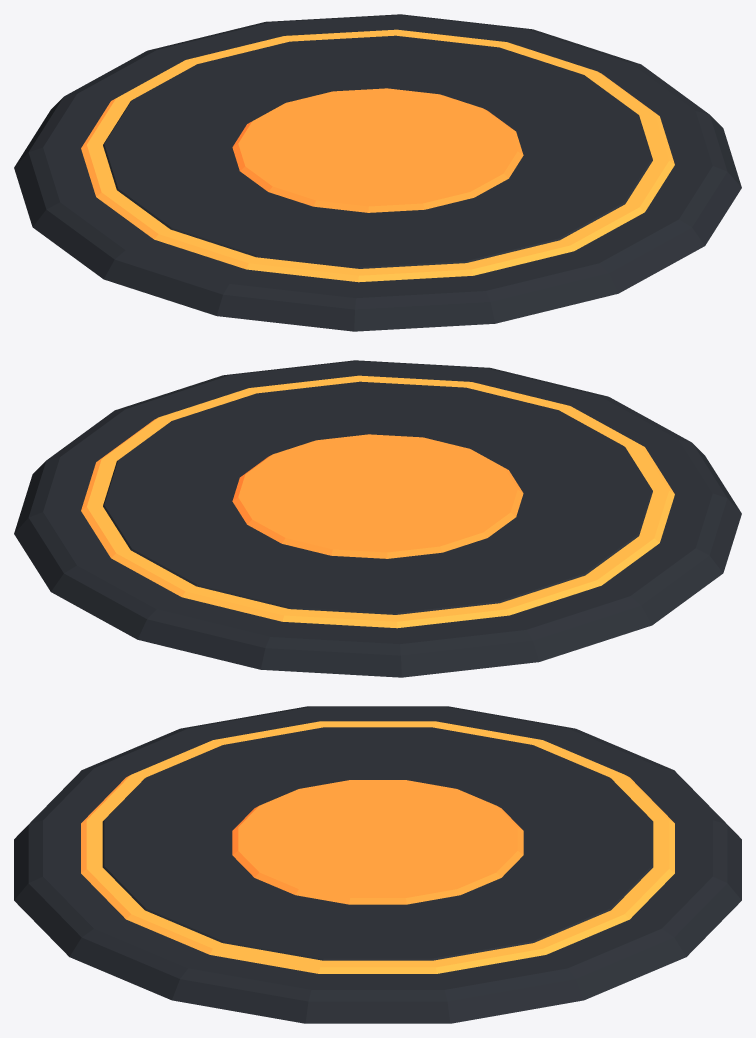
The model's file is spawn_pad_orange.glb.
The picture shows the model from 3 angles, top to bottom: view 1: azimuth 30°, elevation 25°; view 2: azimuth 150°, elevation 25°; view 3: azimuth 270°, elevation 25°; orthographic projection.
Visible parts, largest first — view 1: spawn_pad_orange; view 2: spawn_pad_orange; view 3: spawn_pad_orange.
Boxes of the visible parts, x1=… form: spawn_pad_orange: x1=14, y1=14, x2=741, y2=331; spawn_pad_orange: x1=14, y1=360, x2=741, y2=677; spawn_pad_orange: x1=14, y1=706, x2=741, y2=1023.
Size of the model in its own units: 2.45 by 0.115 by 2.45.
